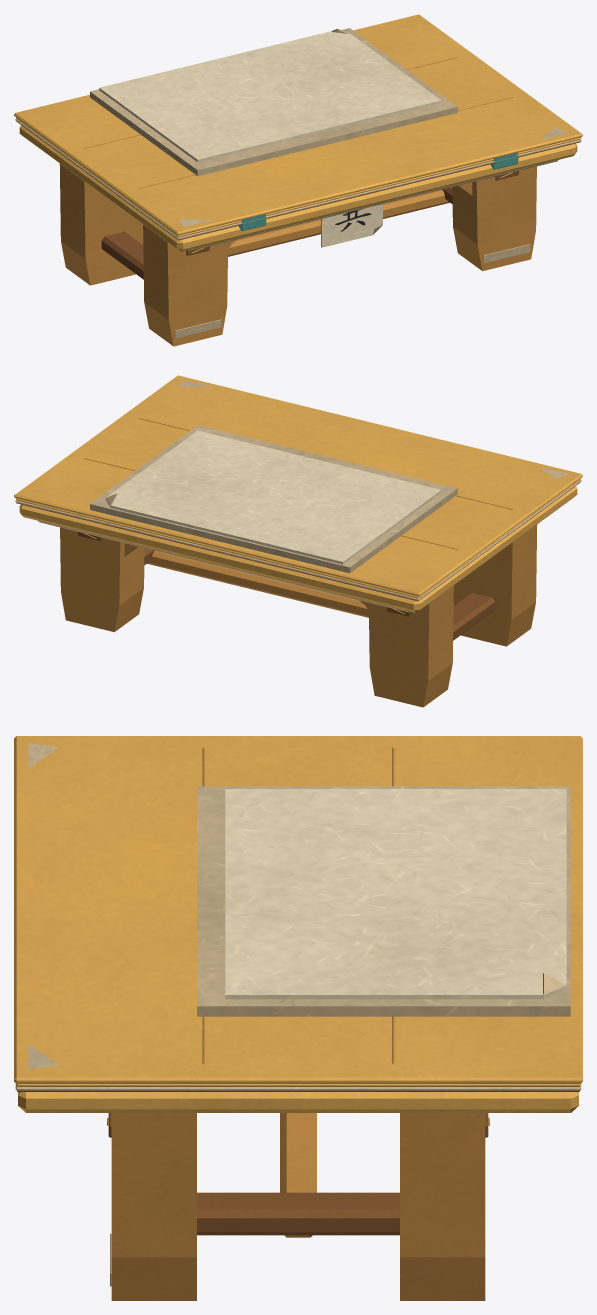
File: station_shared.glb
The picture shows the model from 3 angles, top to bottom: view 1: azimuth 30°, elevation 25°; view 2: azimuth 150°, elevation 25°; view 3: azimuth 270°, elevation 25°; orthographic projection. The views are drawn at different scales.
Parts seen in each view (by area): view 1: station_shared__tabletop, adapt_shared_dry_sheet__paper_dry__paper_body, station_shared__tapered_leg, station_shared__tapered_leg.002, station_shared__tabletop__core, adapt_shared_single_slot_mat, station_shared__tapered_leg.001, station_shared__low_cross_stretcher, station_shared__craft_label, station_shared__tabletop__paper_lamination, station_shared__tabletop__warm_lamination, station_shared__stretcher_y (+2 smaller); view 2: station_shared__tabletop, adapt_shared_dry_sheet__paper_dry__paper_body, station_shared__tapered_leg.001, station_shared__tapered_leg.003, station_shared__tabletop__core, station_shared__tapered_leg, adapt_shared_single_slot_mat, station_shared__low_cross_stretcher, station_shared__tabletop__paper_lamination, station_shared__tabletop__warm_lamination, station_shared__stretcher_y, station_shared__tabletop__edge_shadow (+1 smaller); view 3: station_shared__tabletop, adapt_shared_dry_sheet__paper_dry__paper_body, station_shared__tapered_leg.002, station_shared__tapered_leg.003, adapt_shared_single_slot_mat, station_shared__tabletop__core, station_shared__stretcher_y.001, station_shared__low_cross_stretcher, station_shared__tabletop__paper_lamination, station_shared__tabletop__warm_lamination, station_shared__tabletop__edge_shadow.
Part boxes in pixels (bbox=[...]): station_shared__tabletop: bbox=[14, 14, 582, 235]; adapt_shared_dry_sheet__paper_dry__paper_body: bbox=[99, 31, 441, 162]; station_shared__tapered_leg: bbox=[143, 224, 228, 346]; station_shared__tapered_leg.002: bbox=[452, 166, 536, 271]; station_shared__tabletop__core: bbox=[19, 125, 577, 251]; adapt_shared_single_slot_mat: bbox=[90, 28, 457, 176]; station_shared__tapered_leg.001: bbox=[59, 163, 143, 285]; station_shared__low_cross_stretcher: bbox=[228, 189, 449, 256]; station_shared__craft_label: bbox=[321, 204, 382, 247]; station_shared__tabletop__paper_lamination: bbox=[15, 119, 581, 239]; station_shared__tabletop__warm_lamination: bbox=[16, 117, 580, 237]; station_shared__stretcher_y: bbox=[101, 231, 143, 279]; station_shared__tabletop: bbox=[14, 375, 582, 596]; adapt_shared_dry_sheet__paper_dry__paper_body: bbox=[105, 430, 441, 564]; station_shared__tapered_leg.001: bbox=[368, 585, 453, 707]; station_shared__tapered_leg.003: bbox=[60, 527, 144, 632]; station_shared__tabletop__core: bbox=[19, 486, 577, 612]; station_shared__tapered_leg: bbox=[453, 524, 537, 646]; adapt_shared_single_slot_mat: bbox=[90, 425, 457, 573]; station_shared__low_cross_stretcher: bbox=[147, 550, 368, 617]; station_shared__tabletop__paper_lamination: bbox=[15, 480, 581, 600]; station_shared__tabletop__warm_lamination: bbox=[16, 478, 580, 598]; station_shared__stretcher_y: bbox=[453, 592, 495, 640]; station_shared__tabletop__edge_shadow: bbox=[16, 482, 580, 601]; station_shared__tabletop: bbox=[14, 736, 582, 1083]; adapt_shared_dry_sheet__paper_dry__paper_body: bbox=[225, 789, 566, 999]; station_shared__tapered_leg.002: bbox=[111, 1113, 196, 1300]; station_shared__tapered_leg.003: bbox=[400, 1113, 485, 1300]; adapt_shared_single_slot_mat: bbox=[197, 786, 570, 1016]; station_shared__tabletop__core: bbox=[18, 1092, 578, 1112]; station_shared__stretcher_y.001: bbox=[197, 1192, 399, 1235]; station_shared__low_cross_stretcher: bbox=[280, 1113, 316, 1237]; station_shared__tabletop__paper_lamination: bbox=[15, 1083, 581, 1090]; station_shared__tabletop__warm_lamination: bbox=[16, 1084, 580, 1086]; station_shared__tabletop__edge_shadow: bbox=[17, 1090, 579, 1091].
Bounding box in the file's own units: 1 × 0.367 × 0.7.
Materials: 9 (8 with a texture image).
